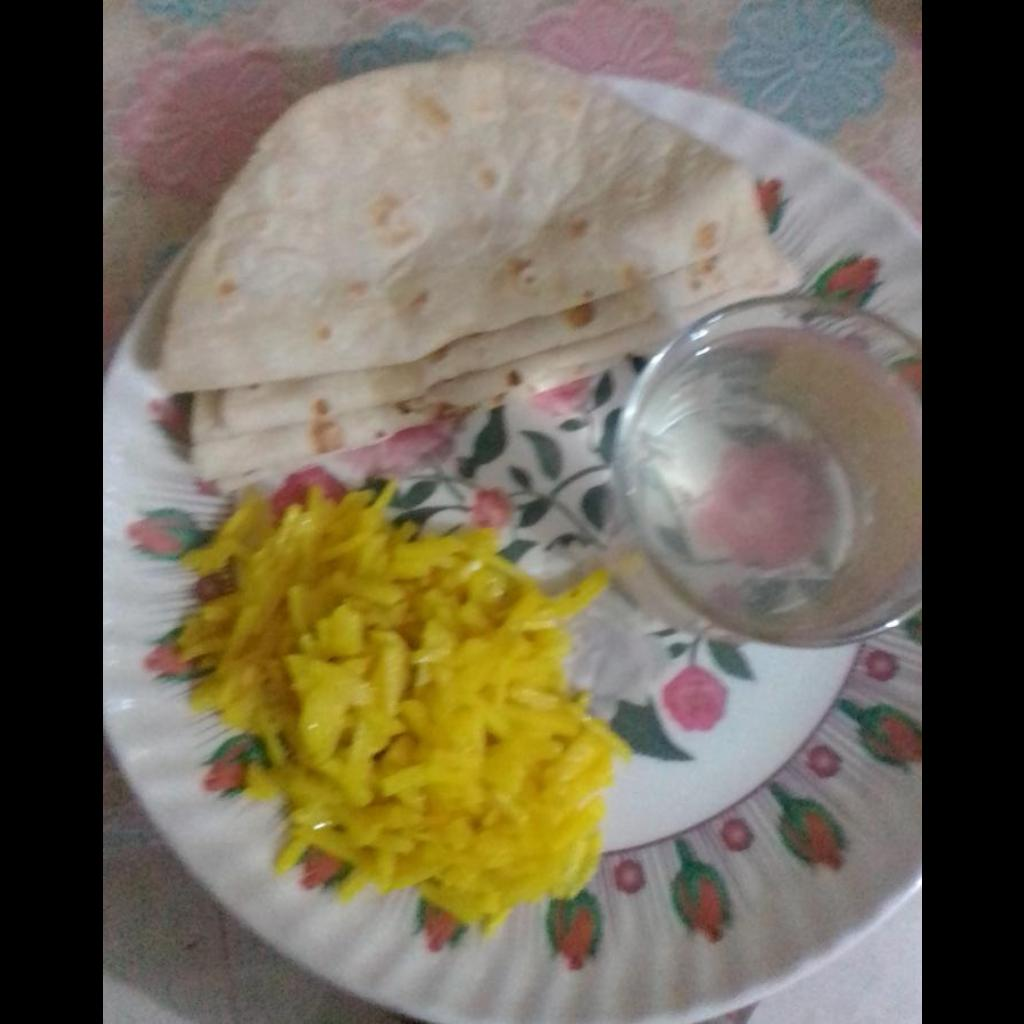ruti: (160, 56, 801, 491)
vaji: (181, 481, 637, 938)
